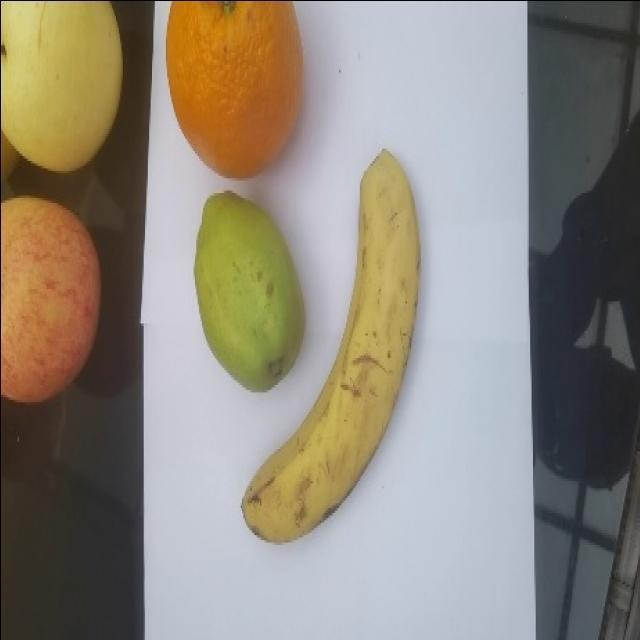Apple: (0, 196, 105, 403)
Banana: (238, 148, 422, 546)
Orange: (162, 0, 302, 184)
